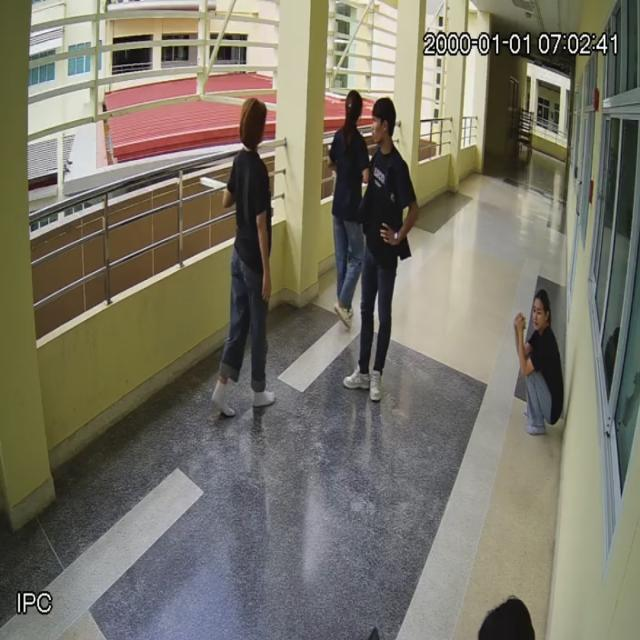normal: (338, 94, 420, 409), (214, 89, 278, 419), (325, 87, 365, 331), (511, 279, 565, 436)
